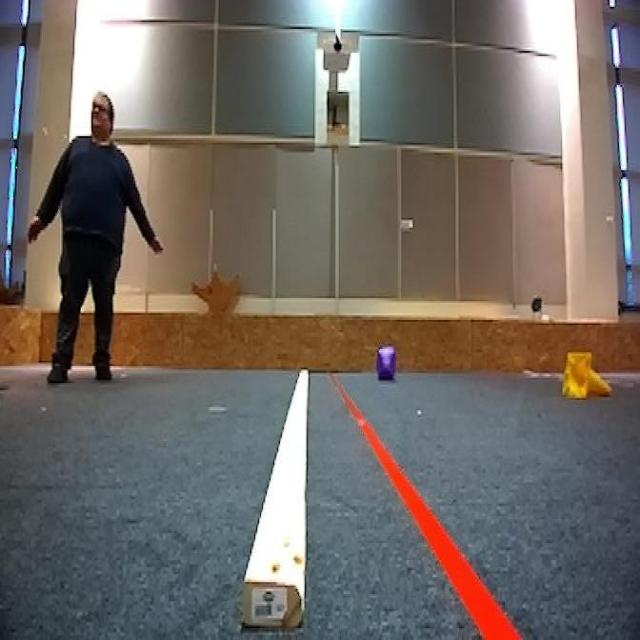frc_cone: (560, 347, 610, 402)
frc_cube: (375, 344, 399, 381)
